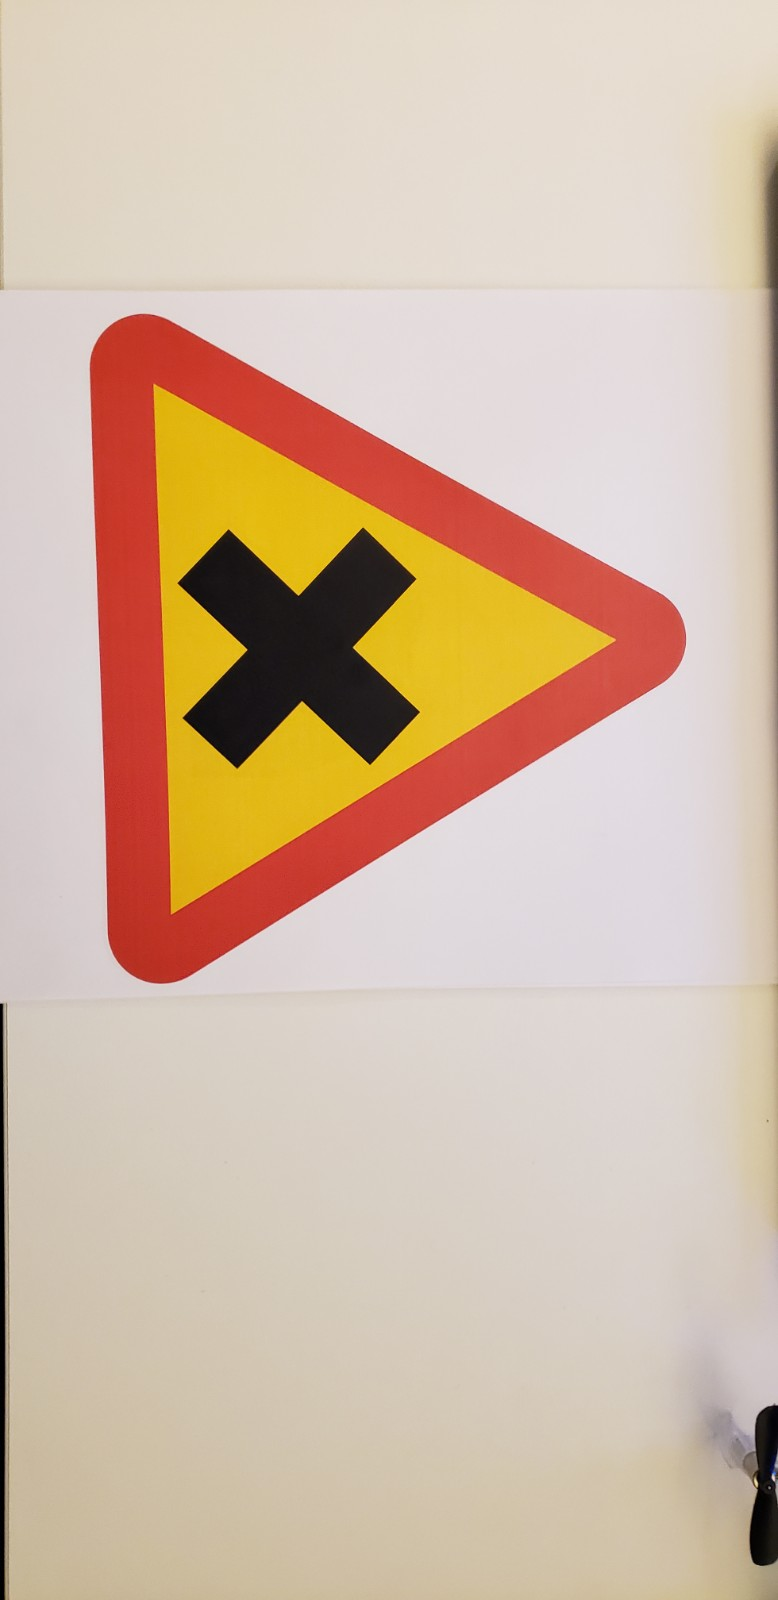junction: (61, 298, 703, 1000)
